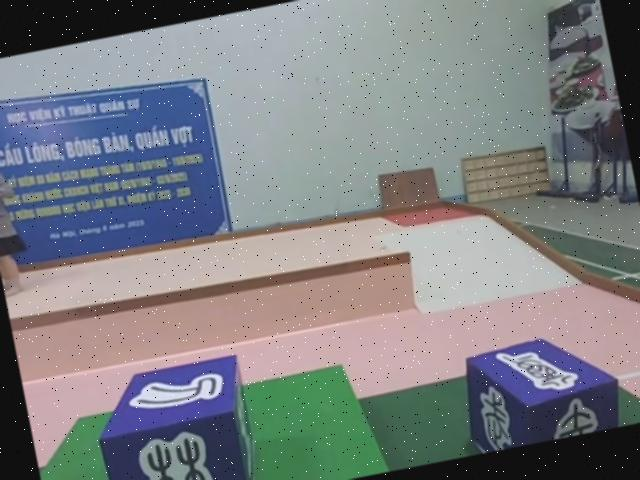R2 Fake Blue: (86, 354, 264, 480), (456, 326, 627, 455)
